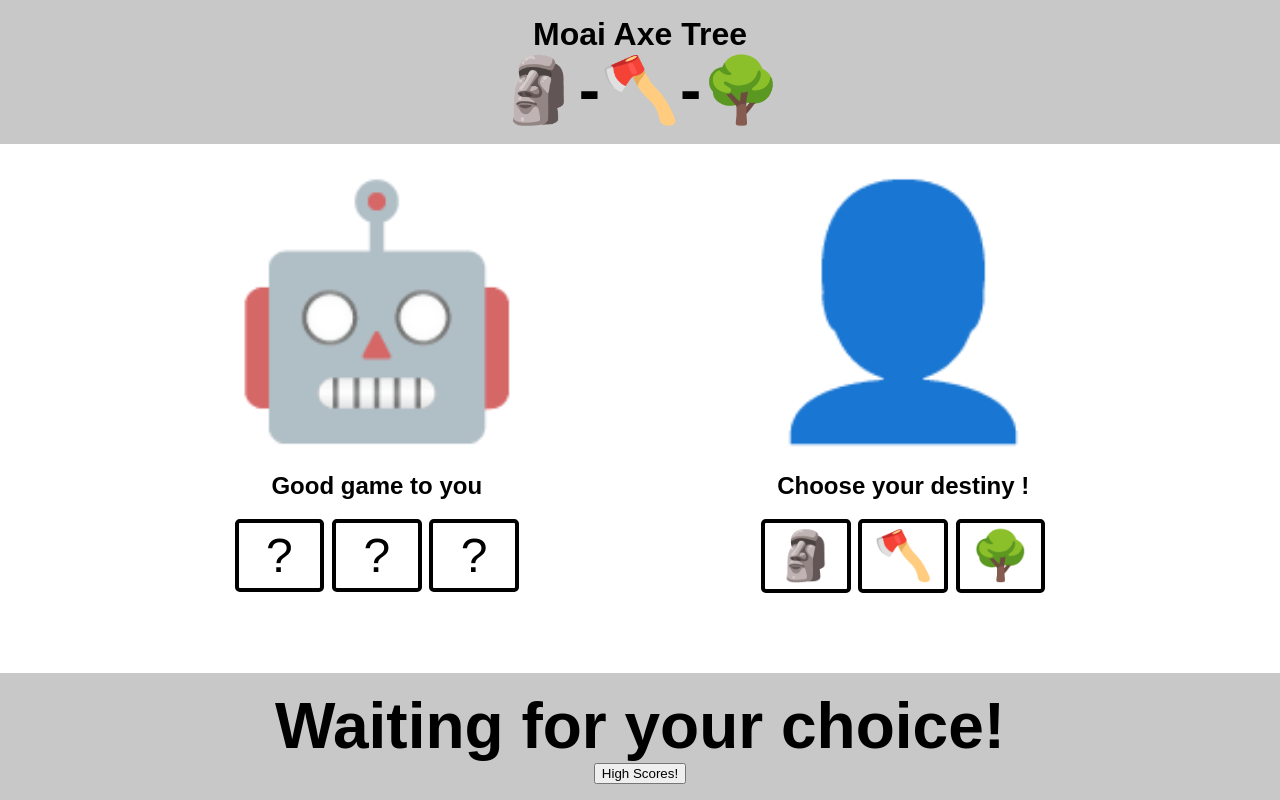
Test case: Game tests › Test that I can make a selection
The width and height of the screenshot is (1280, 800).
Expected: the heading with test id "result_footer" reads "Waiting for your choice!", [275,690,1005,762]
Click the button "🗿": (806, 556) [761,519,851,593]
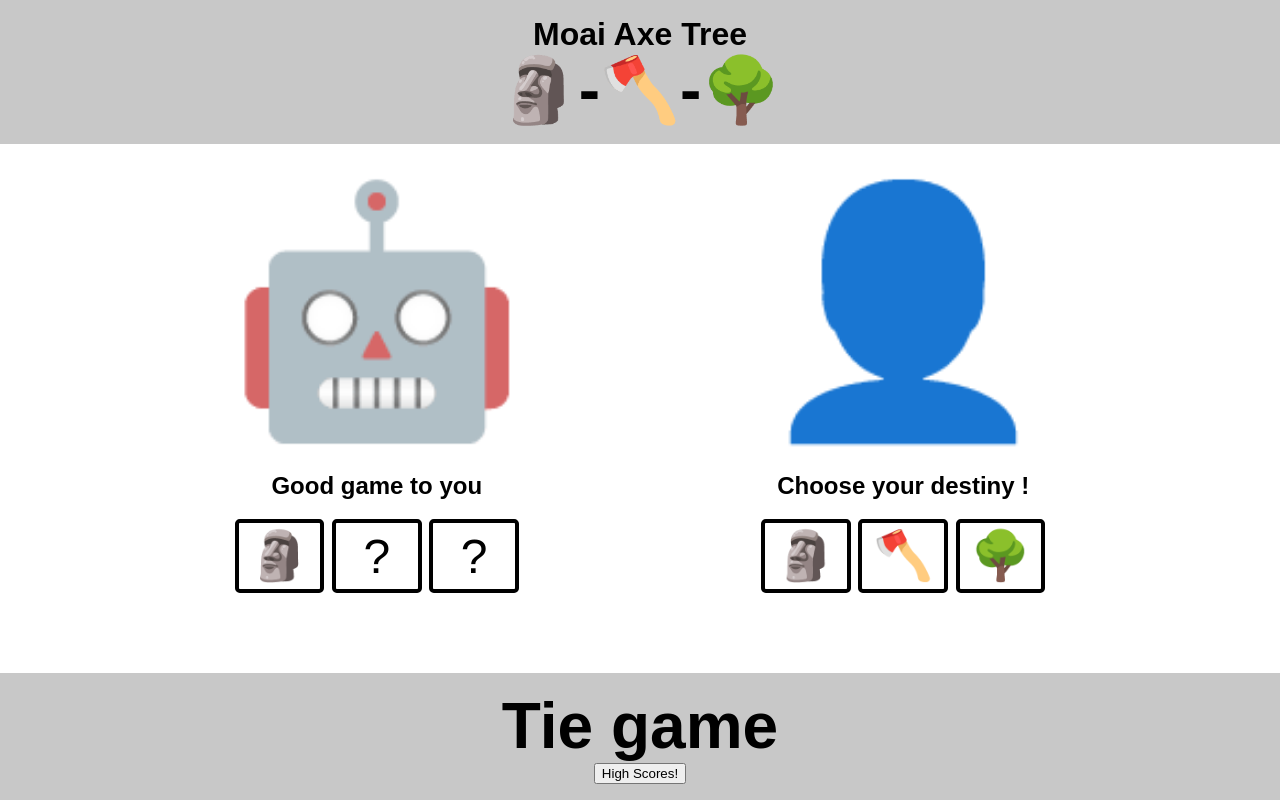
Expected: the heading with test id "result_footer" reads "Tie game", [502,690,778,762]
